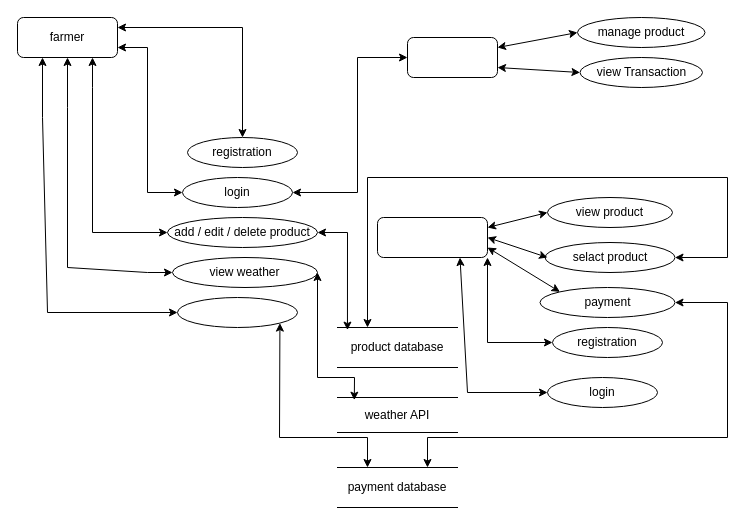
This 754x525 diagram has some shape labels left out. The shapes that lost their labels are listed below. From the top down, each one's box as (x1, y1, x2, y2) in pixels, then its label:
(406, 36, 498, 78): admin
(376, 216, 488, 258): buyer
(176, 296, 298, 328): view payment
